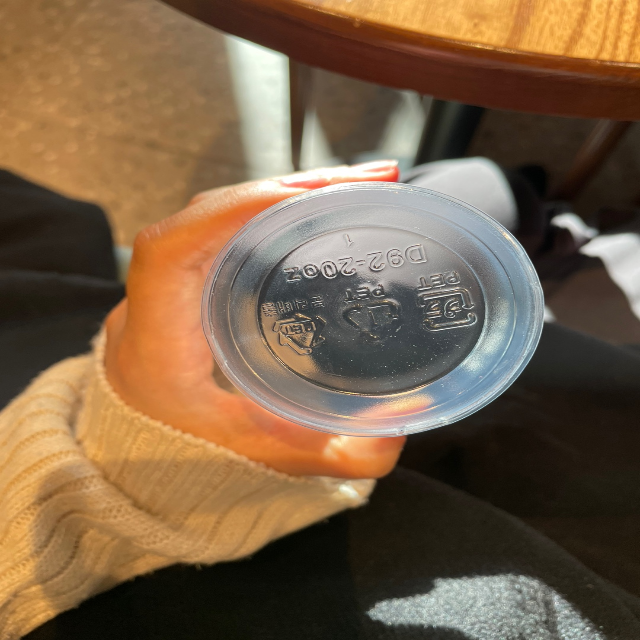pet: (262, 290, 330, 360), (339, 282, 406, 352), (411, 269, 479, 330)
